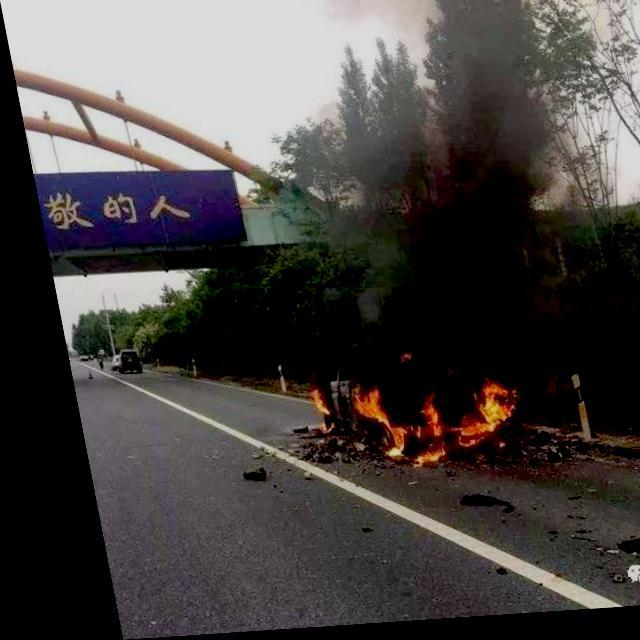Fire: (288, 343, 506, 475)
